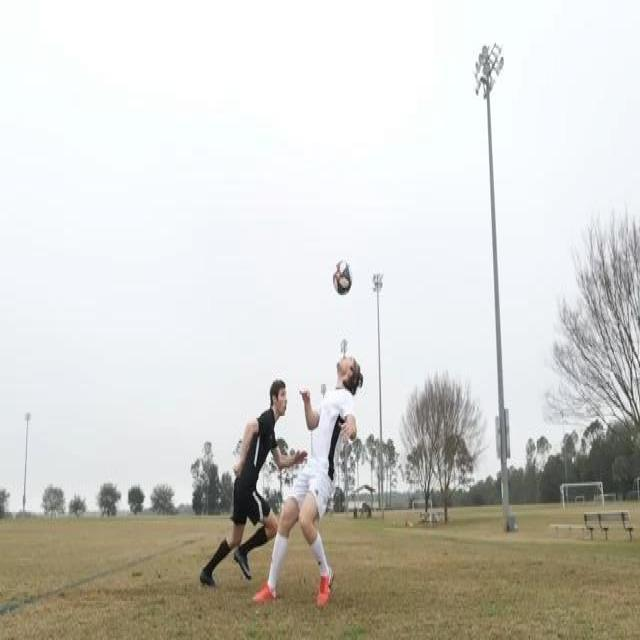Soccer Ball: (332, 258, 353, 298)
